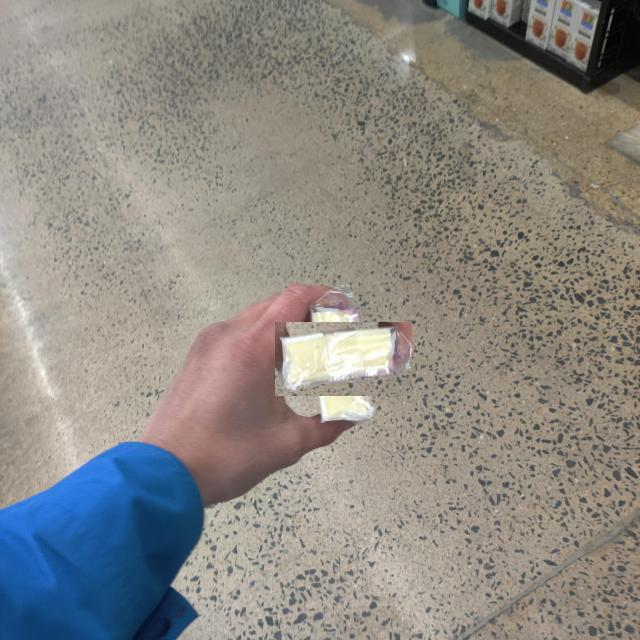Cheese: (274, 322, 412, 396)
